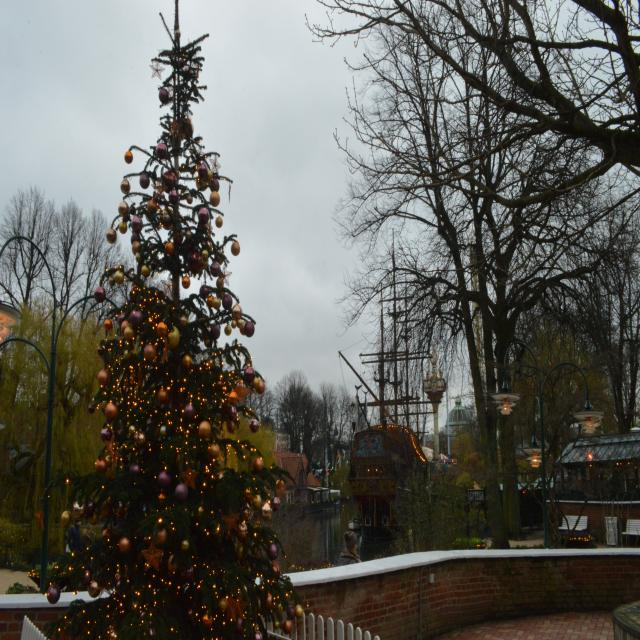Christmas-tree: (98, 3, 297, 640)
